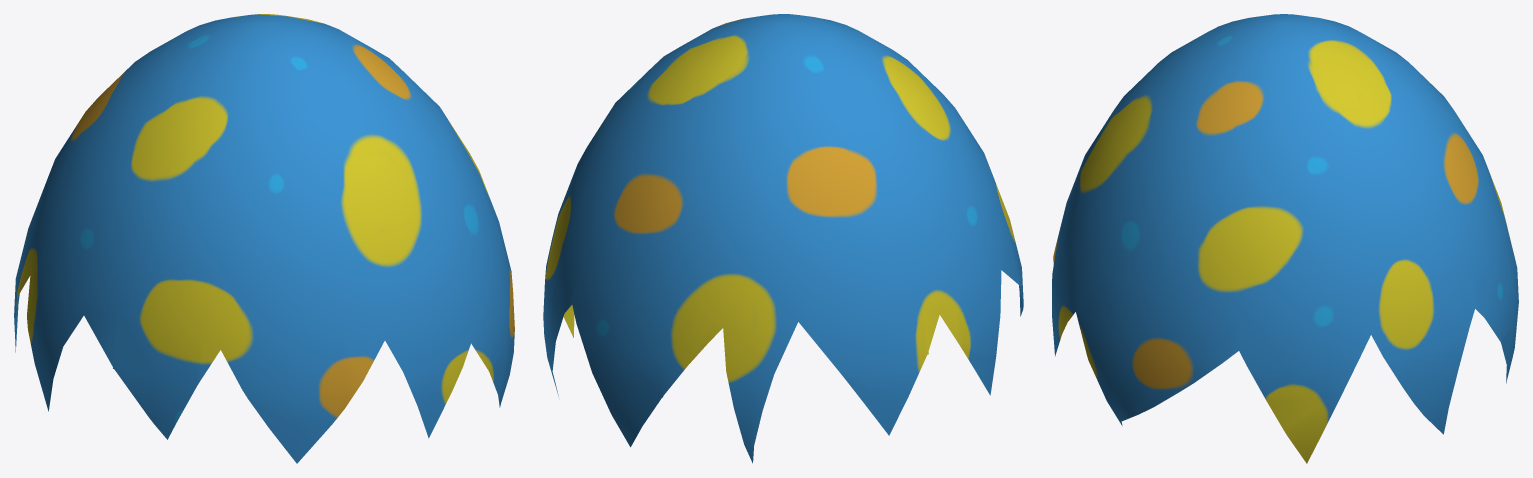
Rendered from brokeEgg.fbx.
3 renders of one model, left to right at view 1: azimuth 30°, elevation 25°; view 2: azimuth 150°, elevation 25°; view 3: azimuth 270°, elevation 25°, orthographic. The views are drawn at different scales.
Parts seen in each view (by area): view 1: eggbluespotty; view 2: eggbluespotty; view 3: eggbluespotty.
Boxes of the visible parts, x1=… form: eggbluespotty: x1=14, y1=14, x2=514, y2=463; eggbluespotty: x1=543, y1=14, x2=1023, y2=463; eggbluespotty: x1=1052, y1=14, x2=1518, y2=463.
Size of the model in its own units: 132 by 108 by 132.
Materials: 1 (1 with a texture image).
